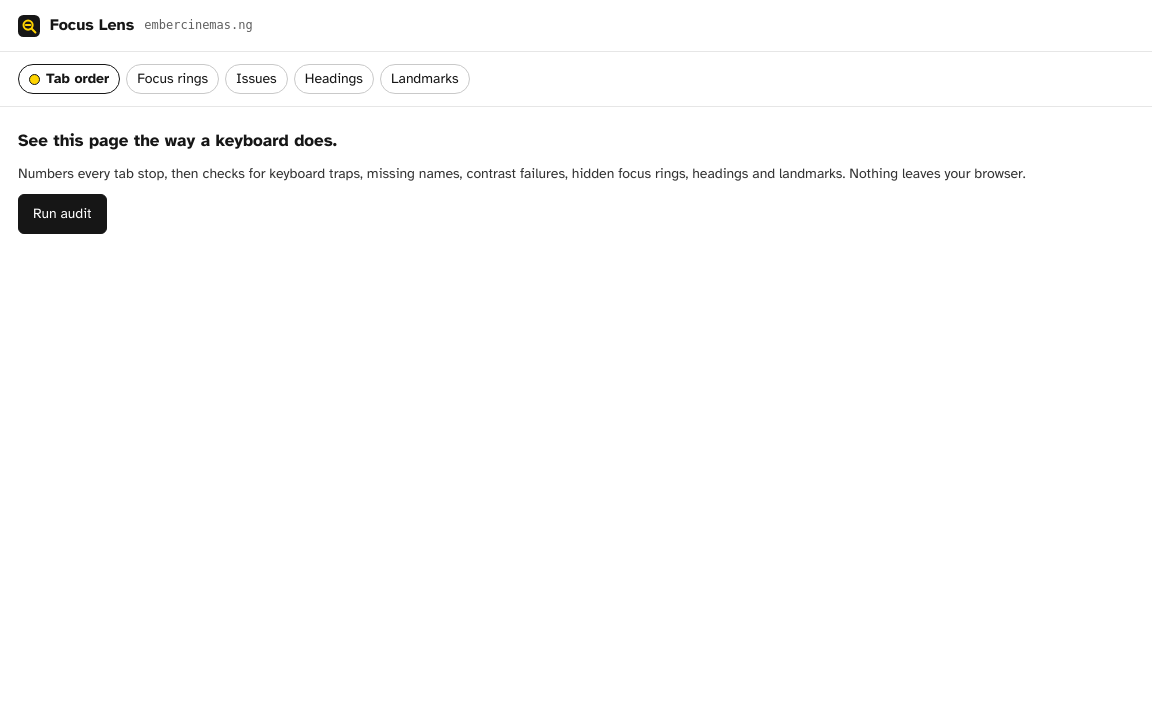
Test: Panel › toggles issues and highlights them on the page
Click the button "Run audit". click: [62, 214]
box: [18,194,107,234]
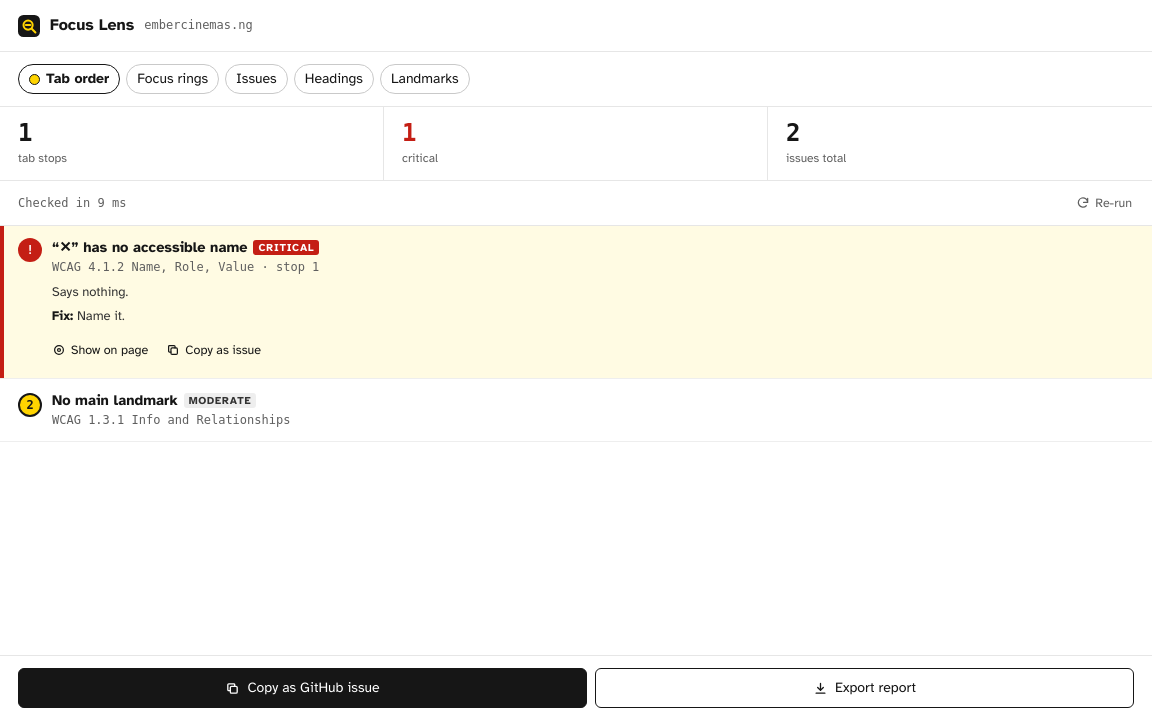
Click the button "No main landmark". click: [154, 401]
box: [52,391,256,410]
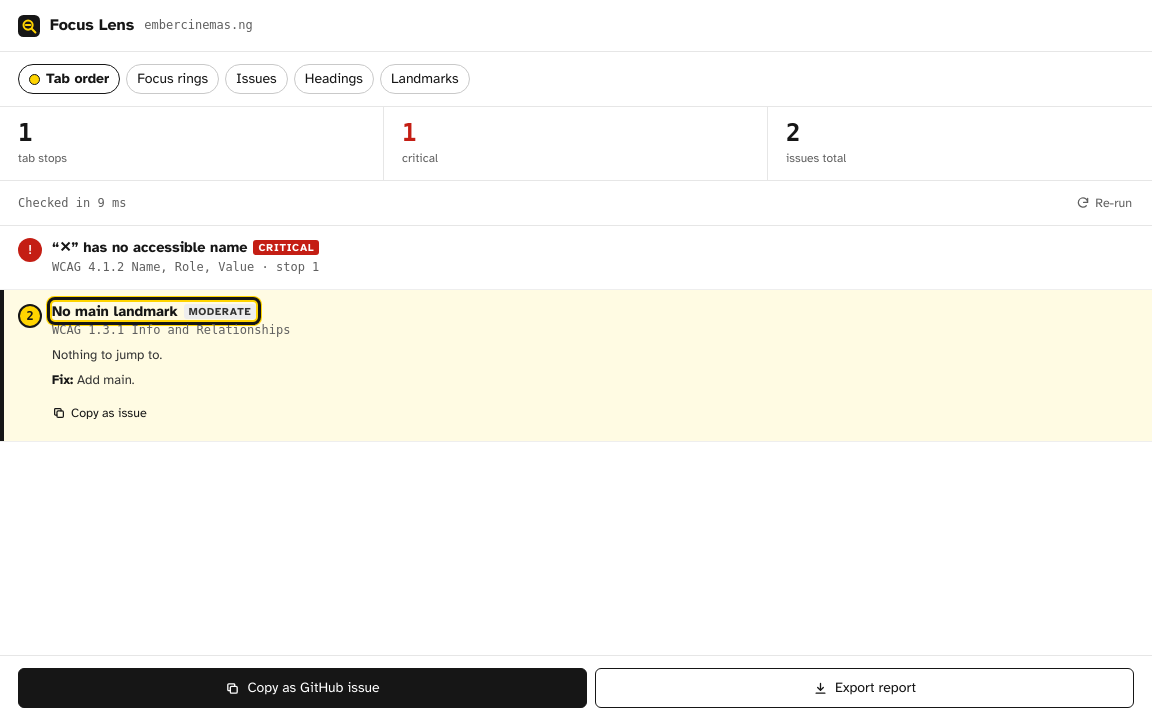
Check: the button "No main landmark" is expanded, box [52,302,256,320]
Check: the button "has no accessible name" is collapsed, box [52,238,320,257]
Check: no buttons "Show on page" are shown
